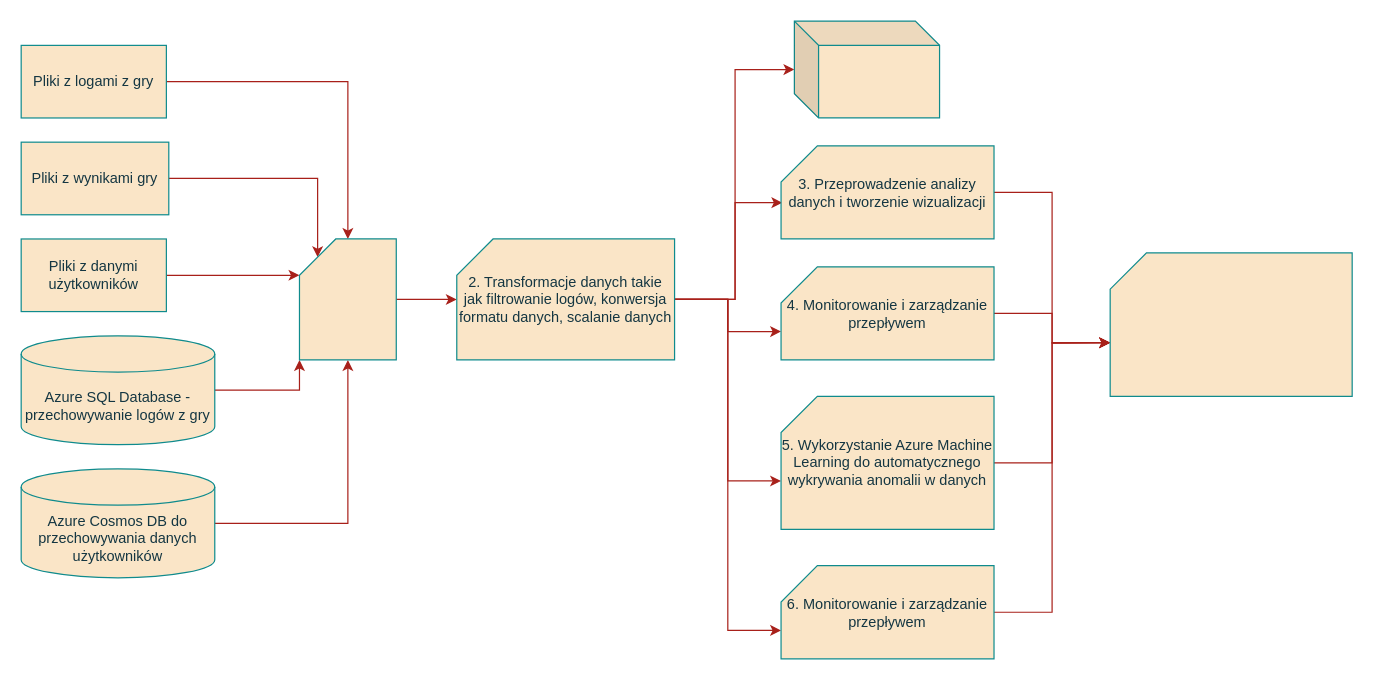
The diagram is 1373 pixels wide and 680 high, and some of its shapes have lost their labels. Here are the shapes that lost their labels. From the top down, the box of each, then its label:
(793, 20, 940, 118): Hurtownia Danych
(298, 238, 396, 360): 1. Pobranie danych
(1109, 252, 1352, 396): 7. Zapis danych w chmurze Microsoft Azure
